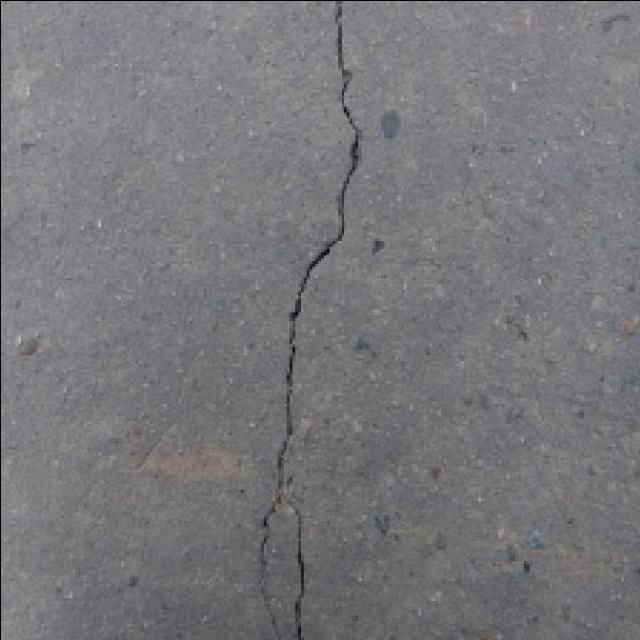SurfaceCrack: (218, 0, 388, 640)
